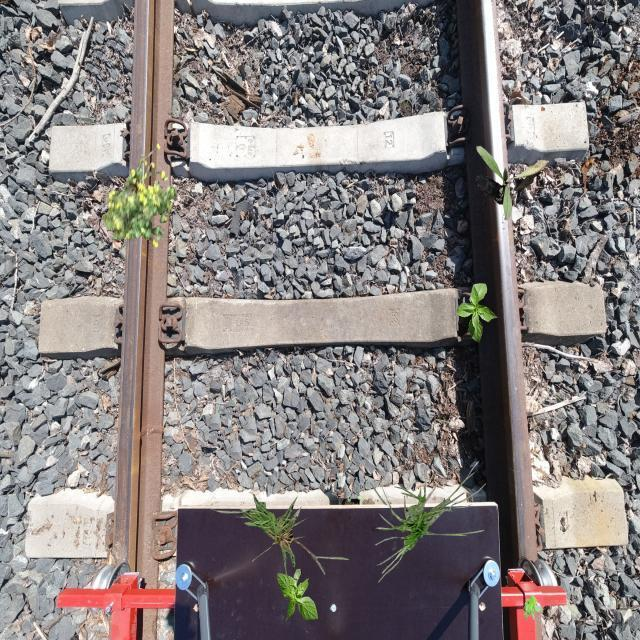Plant: (368, 460, 486, 582), (206, 493, 349, 583), (102, 143, 177, 248), (476, 146, 548, 220), (456, 283, 498, 343), (277, 568, 318, 622), (523, 595, 544, 620)
